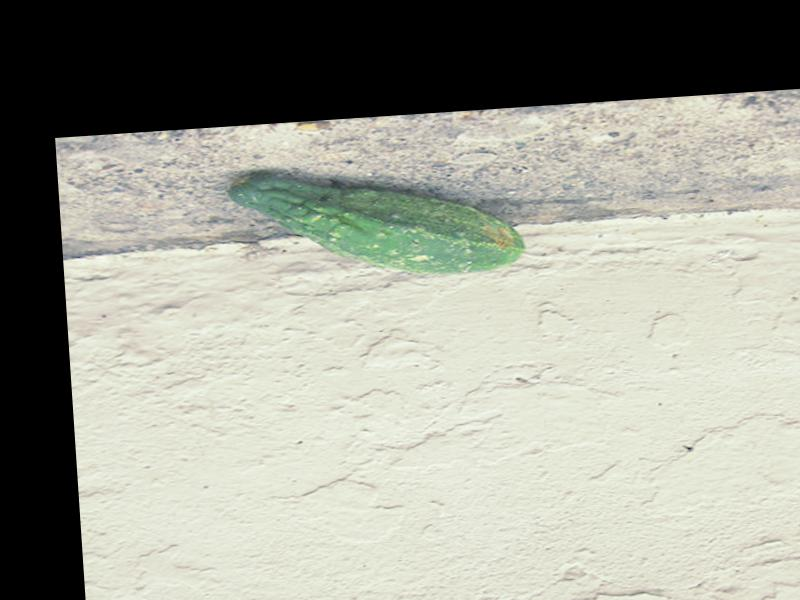Cucumber: (231, 157, 526, 288)
